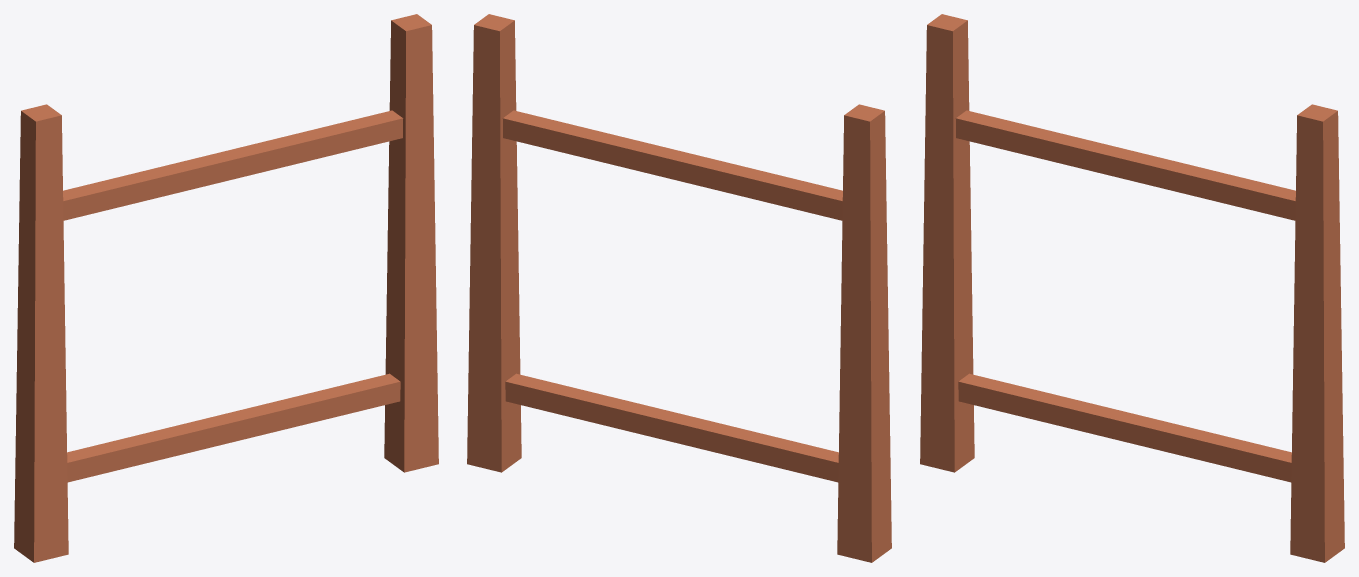
File: fence.obj
The picture shows the model from 3 angles, left to right: view 1: azimuth 30°, elevation 25°; view 2: azimuth 150°, elevation 25°; view 3: azimuth 330°, elevation 25°; orthographic projection.
Bounding box in the file's own units: 0.5 × 0.5175 × 0.0428.
